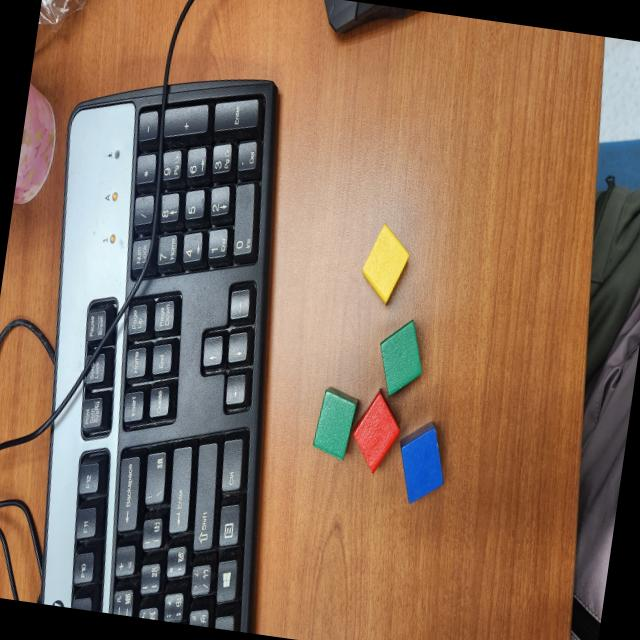blue: (391, 417, 453, 510)
green: (372, 314, 430, 402), (310, 384, 361, 464)
red: (346, 386, 406, 480)
yellow: (357, 222, 414, 308)
